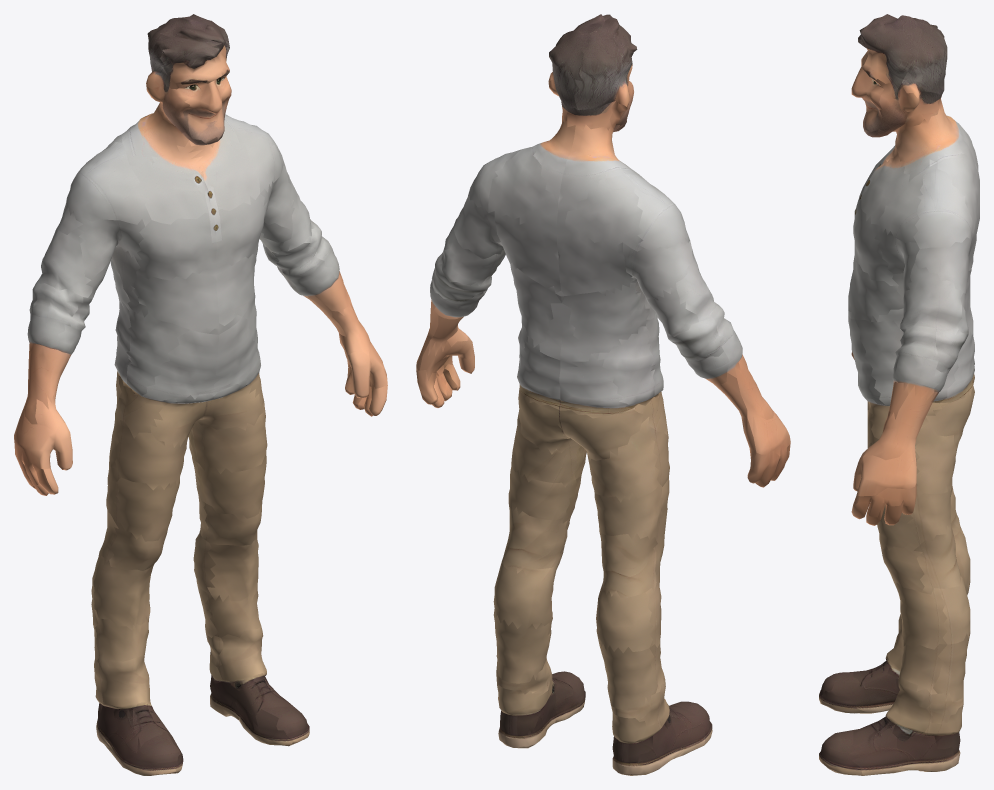
Rendered from dmitry.glb.
3 renders of one model, left to right at view 1: azimuth 30°, elevation 25°; view 2: azimuth 150°, elevation 25°; view 3: azimuth 270°, elevation 25°, orthographic.
Size of the model in its own units: 0.9902 by 1.91 by 0.3875.
Materials: 1 (1 with a texture image).
